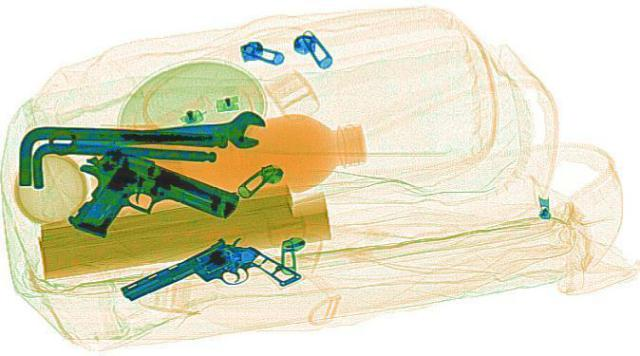Gun: (15, 142, 253, 260), (107, 231, 307, 330)
Wrench: (42, 108, 270, 159)
